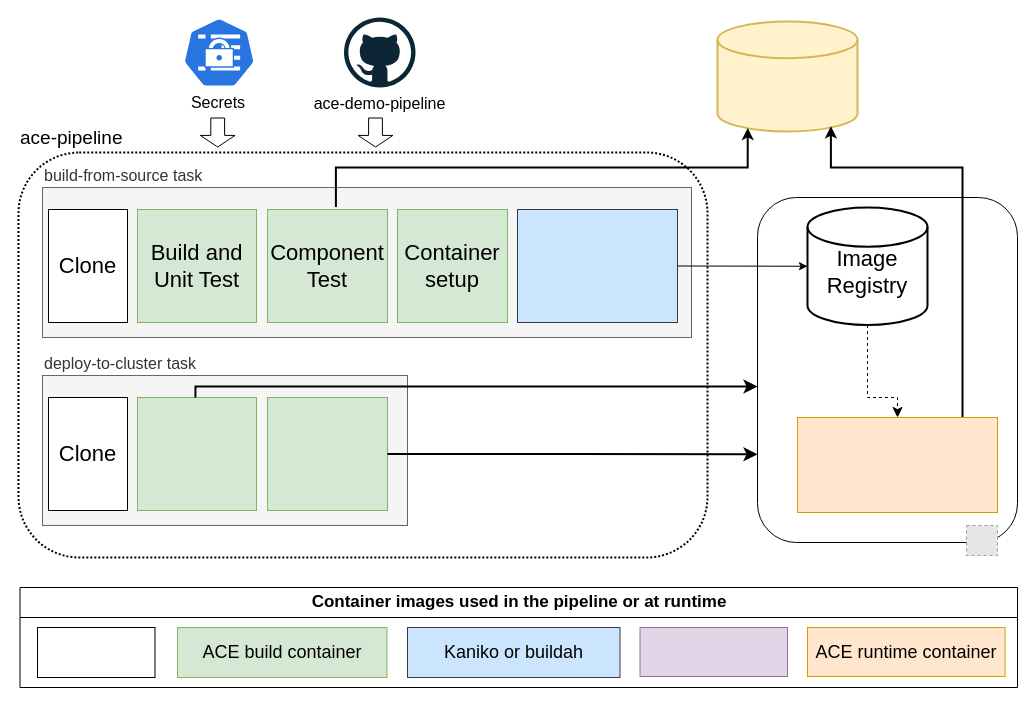
Image size: 1035x705. Some labels were removed from this diagram. Grey dashed boxes stand in for pictures. The shapes that lost their labels are listed below. From the top down, each one's centre as x and y in pixels, then its label:
At [787,76]: "DB2oC".
At [597,265]: "Container build and push".
At [196,453]: "Deploy Application".
At [327,453]: "Create Service".
At [897,464]: "tea application container".
At [95,652]: "git-init".
At [713,651]: "k8s-kubectl".
